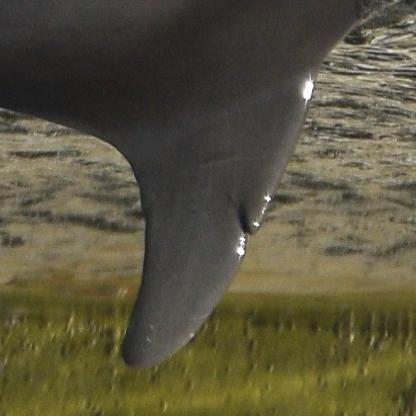dolphin-whale: (2, 1, 415, 370)
